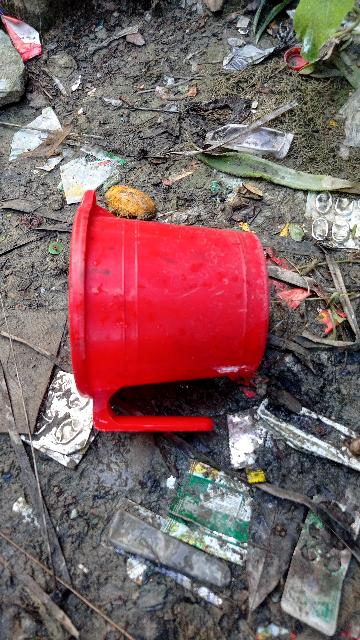hardplastic: (64, 189, 269, 412)
